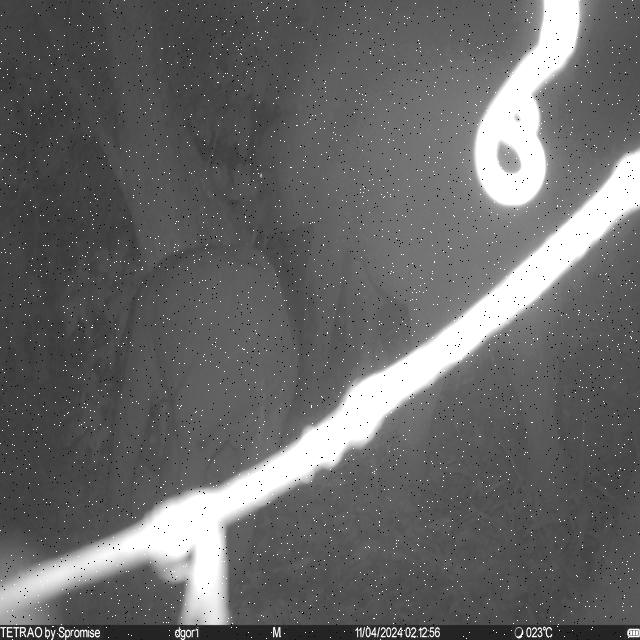calf: (105, 243, 302, 589)
elephant: (247, 58, 589, 498)
tusk: (250, 228, 260, 245), (262, 236, 270, 250)
